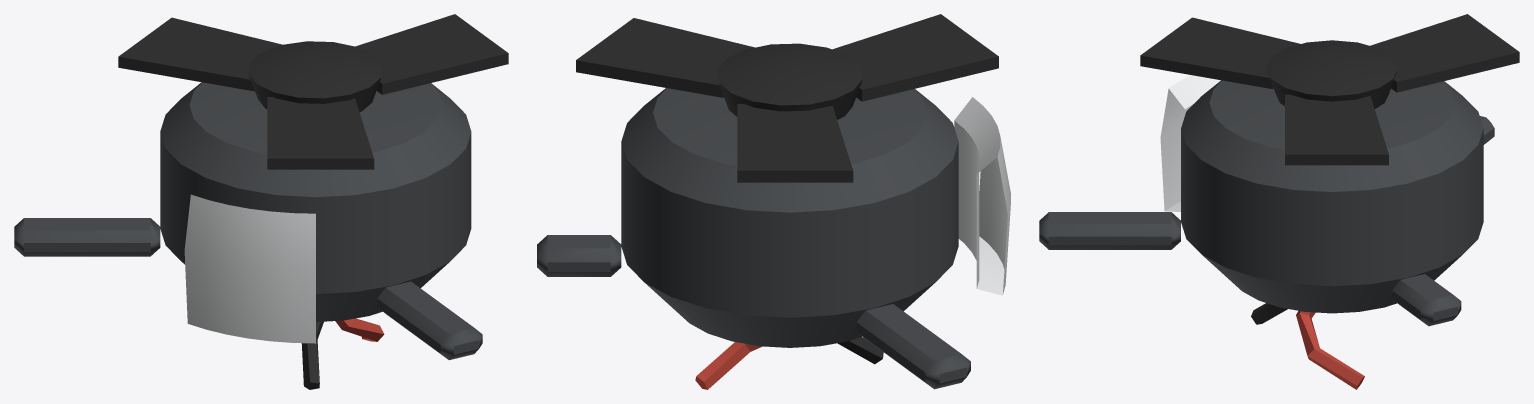
Rendered from rotor_assembly.glb.
3 views of the same model, side by side, from view 1: azimuth 30°, elevation 25°; view 2: azimuth 150°, elevation 25°; view 3: azimuth 270°, elevation 25° (orthographic). The views are drawn at different scales.
Parts seen in each view (by area): view 1: body; view 2: body; view 3: body.
Boxes of the visible parts, <box> form: body: <box>14,14,508,389</box>; body: <box>537,14,1010,389</box>; body: <box>1039,14,1519,389</box>.
Size of the model in its own units: 0.0983 by 0.0706 by 0.1016.
